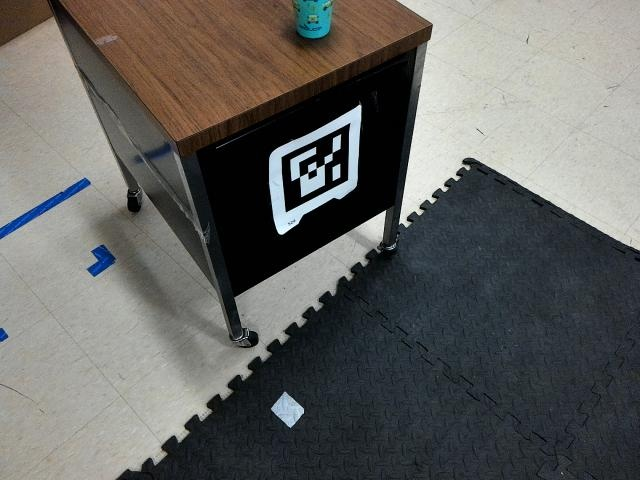coffee_cup: (293, 1, 335, 37)
